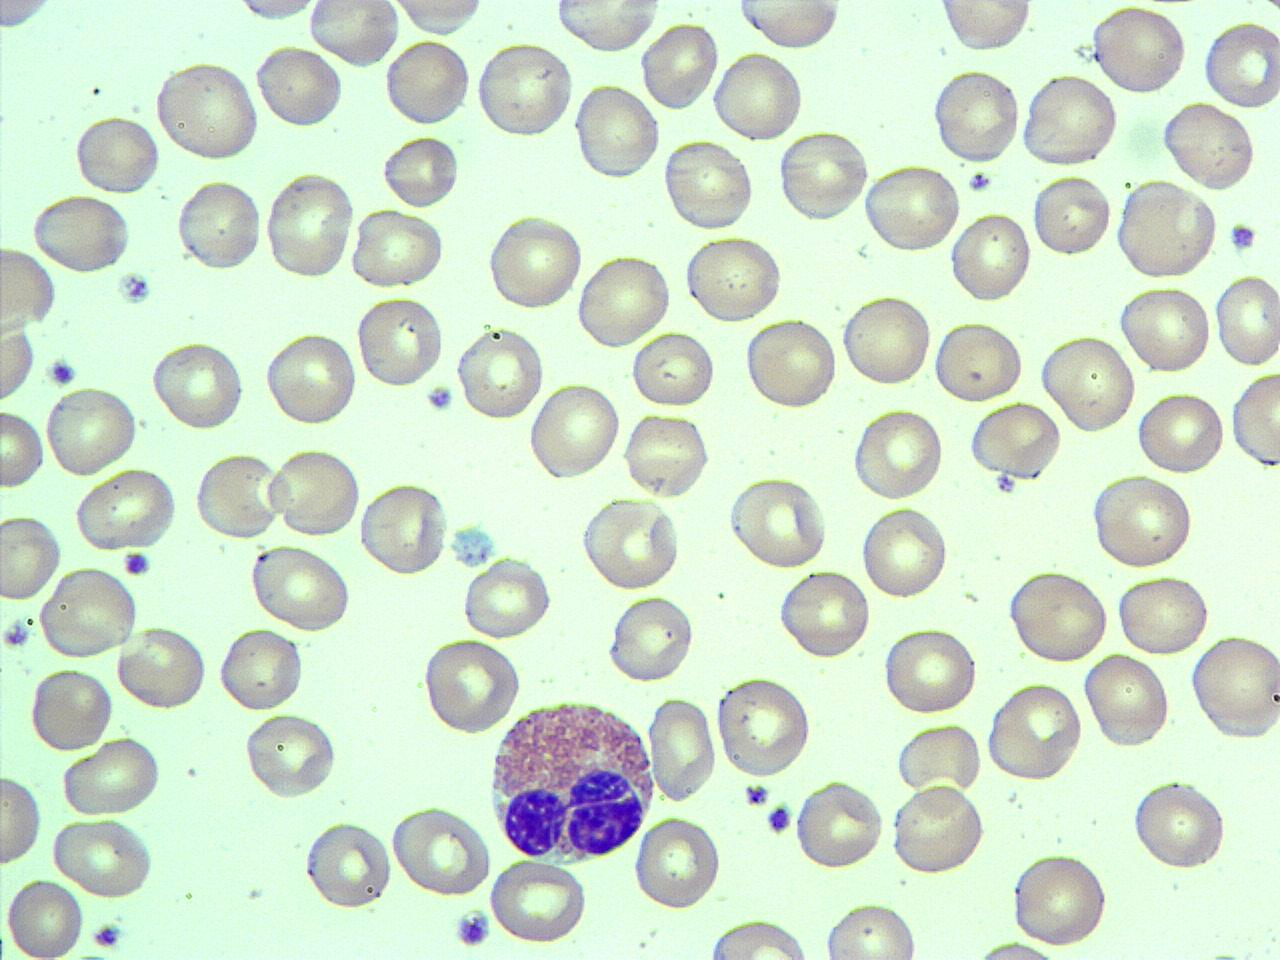Platelets: (447, 522, 498, 570), (450, 904, 494, 952), (0, 613, 34, 654), (1225, 218, 1259, 255), (89, 921, 127, 954), (45, 357, 79, 389), (765, 802, 795, 836), (121, 548, 153, 579), (424, 383, 455, 413), (742, 782, 771, 808), (965, 169, 992, 193)
RBC: (153, 57, 261, 163), (1113, 179, 1221, 281), (715, 673, 816, 781), (1086, 472, 1196, 570), (984, 678, 1084, 784), (1007, 848, 1111, 950), (389, 800, 495, 899), (420, 636, 524, 737), (1005, 566, 1111, 664), (1188, 631, 1280, 743), (484, 212, 586, 313), (474, 39, 574, 141), (726, 472, 830, 570), (263, 171, 356, 281), (1130, 774, 1232, 874), (579, 496, 683, 593), (528, 379, 624, 485), (1041, 332, 1137, 436), (36, 566, 141, 659), (263, 328, 360, 429), (246, 542, 352, 633), (577, 251, 674, 350), (1019, 72, 1119, 168), (683, 232, 786, 326), (849, 404, 945, 503), (838, 292, 934, 391), (1089, 3, 1188, 99), (1160, 99, 1260, 195), (453, 322, 546, 423), (862, 162, 963, 256), (742, 316, 840, 411), (888, 783, 986, 878), (42, 384, 141, 479), (488, 856, 590, 948), (632, 812, 724, 914), (72, 466, 180, 552), (268, 444, 364, 541), (858, 503, 952, 601), (930, 66, 1022, 166), (150, 337, 246, 433), (882, 623, 980, 717), (357, 480, 450, 579), (50, 815, 158, 899), (777, 128, 871, 225), (711, 51, 807, 145), (354, 292, 445, 391), (662, 136, 756, 232), (1082, 650, 1172, 750), (1114, 570, 1214, 658), (775, 569, 872, 661), (1116, 284, 1214, 374), (572, 82, 660, 183), (28, 193, 135, 275), (244, 710, 340, 802), (175, 176, 264, 275), (620, 409, 714, 502), (302, 817, 394, 912), (191, 449, 286, 541), (461, 554, 557, 642), (946, 209, 1034, 307), (794, 777, 885, 871), (114, 622, 209, 712), (59, 736, 165, 816), (254, 40, 346, 132), (606, 592, 696, 684), (383, 37, 473, 129), (348, 207, 445, 290), (638, 18, 721, 116), (1136, 388, 1228, 476), (26, 663, 114, 753), (215, 625, 305, 713), (931, 320, 1025, 403), (646, 693, 718, 802), (1200, 16, 1280, 111), (967, 400, 1062, 477), (2, 874, 86, 960), (72, 113, 160, 194), (630, 329, 718, 408), (1031, 173, 1111, 258), (894, 720, 983, 794), (1213, 272, 1279, 370), (306, 0, 400, 68), (0, 240, 60, 342), (0, 509, 65, 604), (822, 899, 922, 960), (382, 133, 462, 208), (554, 1, 664, 53), (934, 0, 1035, 54), (738, 0, 842, 50), (1228, 368, 1278, 471), (702, 917, 818, 959), (0, 768, 45, 870), (0, 406, 48, 494), (386, 0, 492, 38), (0, 321, 38, 406), (229, 0, 323, 27), (0, 0, 60, 32)
WBC: (483, 692, 659, 868)
